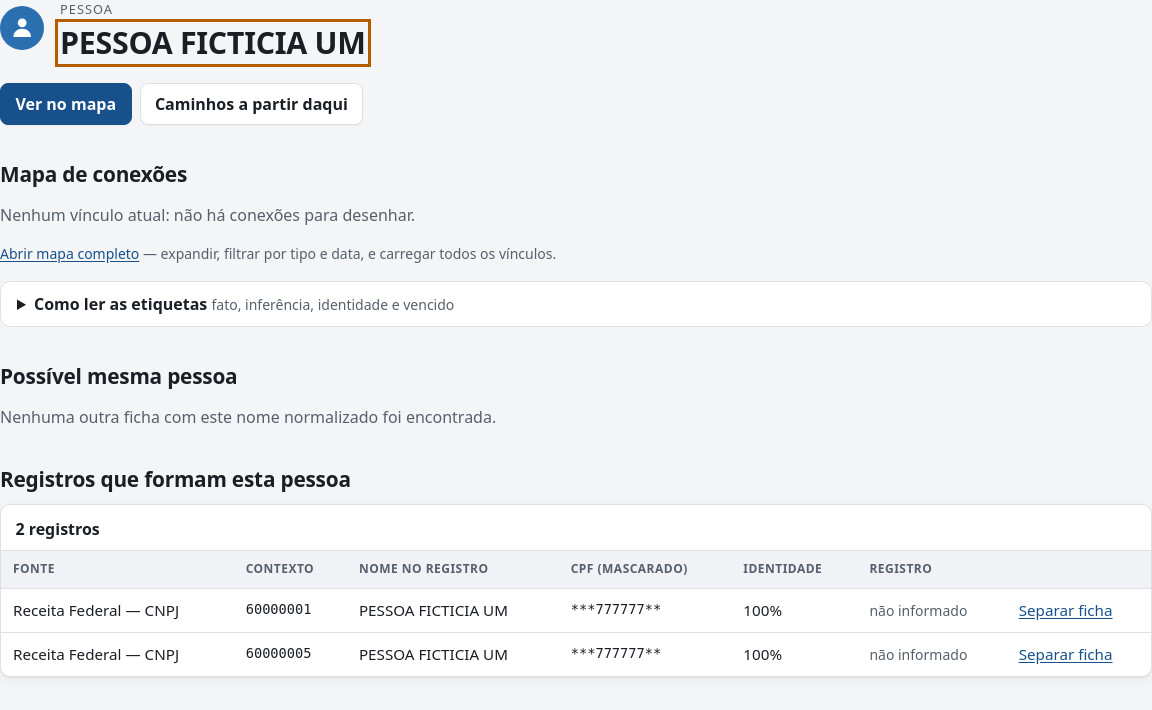
EntityPage — ações de juntar e separar › separar: 409 diz que nada foi alterado, recarrega e mantém o diálogo
The image size is (1152, 710).
Click the button "Separar ficha" in the row of "60000005". click: {"x": 1066, "y": 654}
box: [1019,643,1112,666]
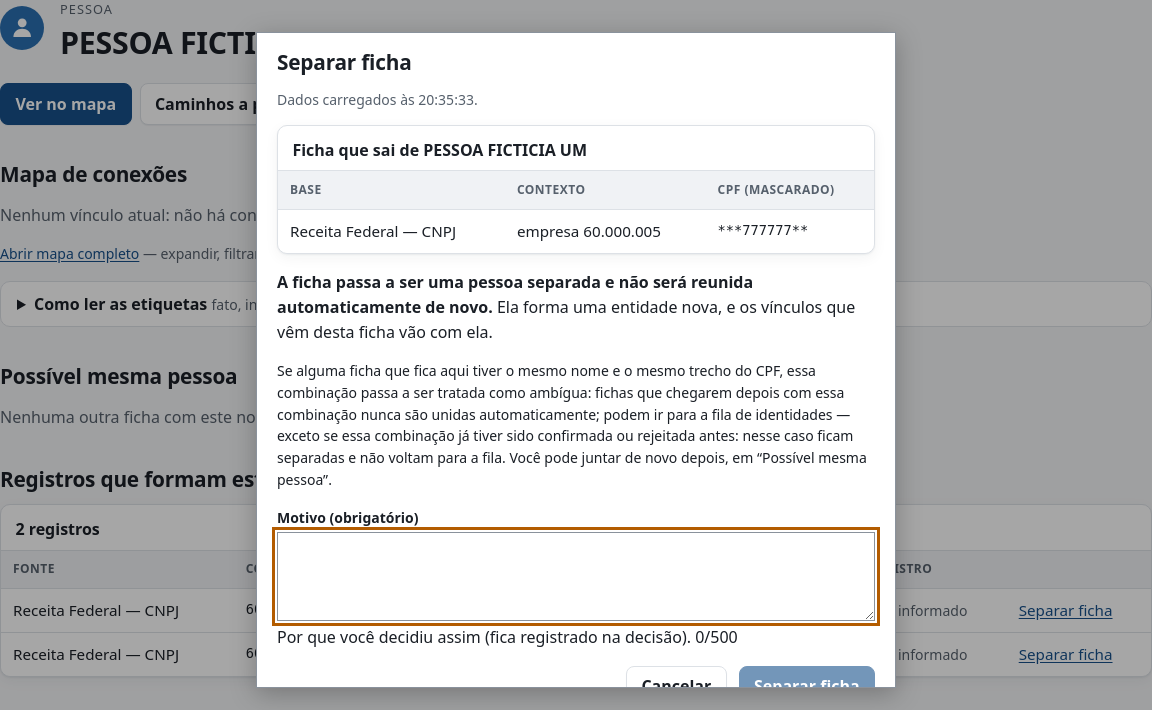
Type "motivo" into the text box labelled "Motivo (obrigatório)". click: {"x": 576, "y": 577}
box: [277,532,875,621]
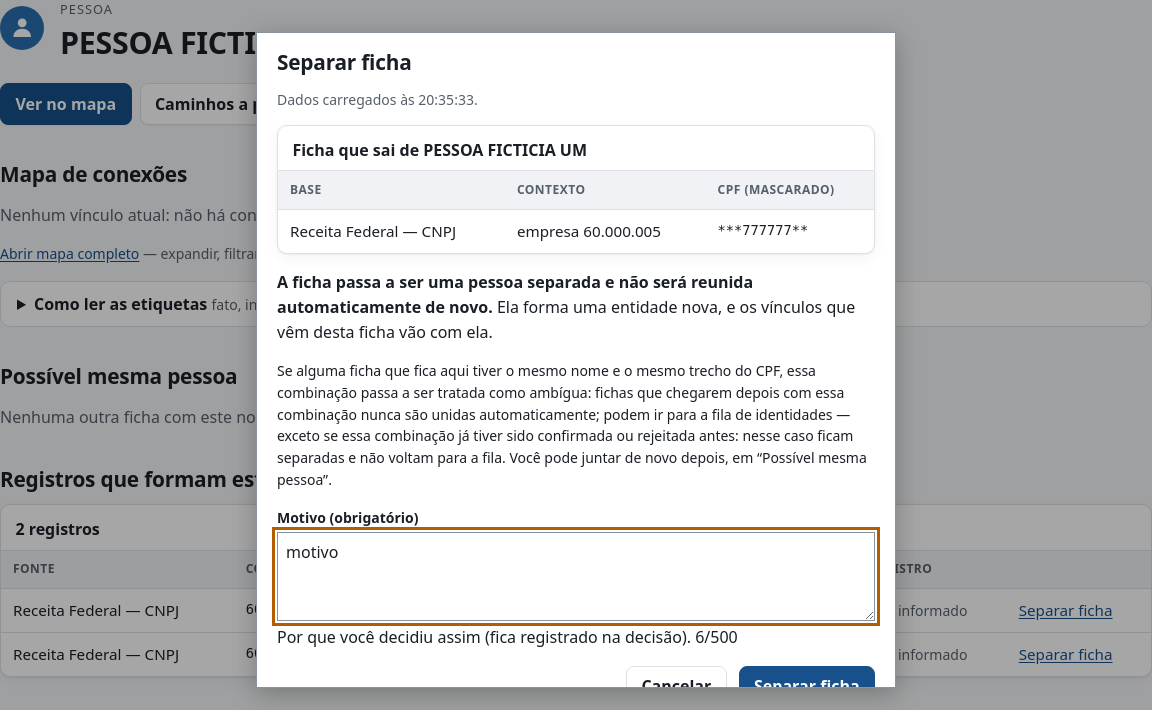
Click the button "Separar ficha". click: {"x": 807, "y": 687}
box: [739,666,875,707]
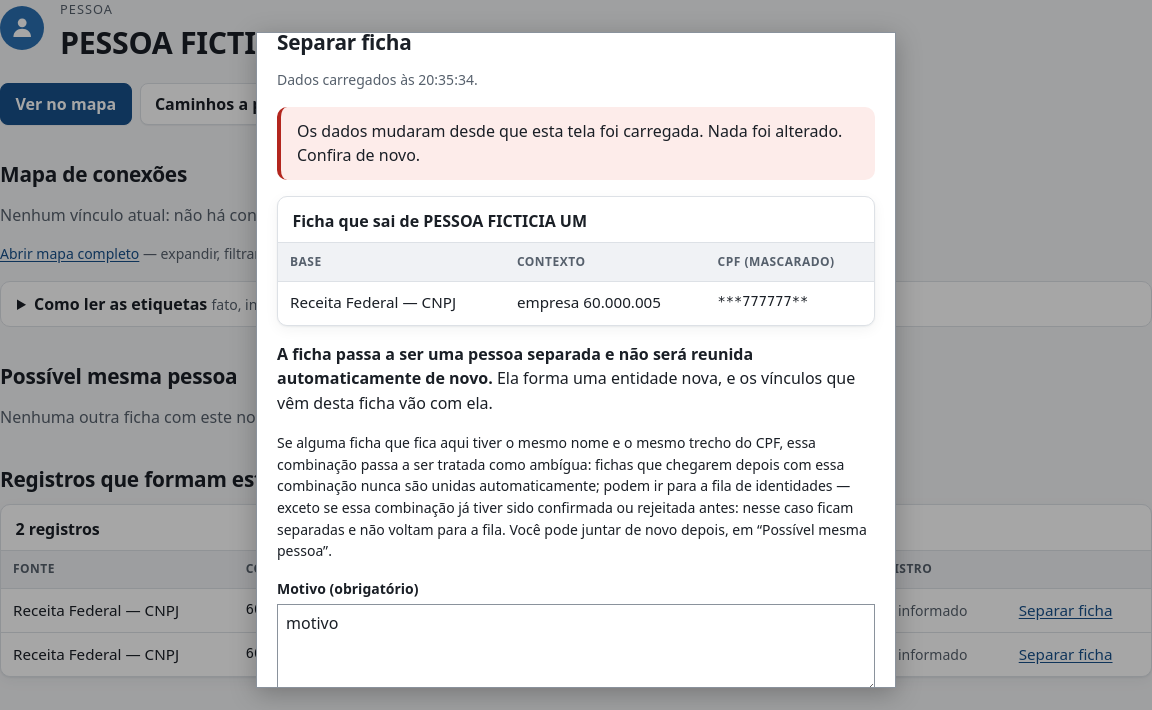
Expected: the text "Os dados mudaram desde que esta tela foi carregada. Nada foi alterado. Confira de novo." is shown, [297,120,842,166]
